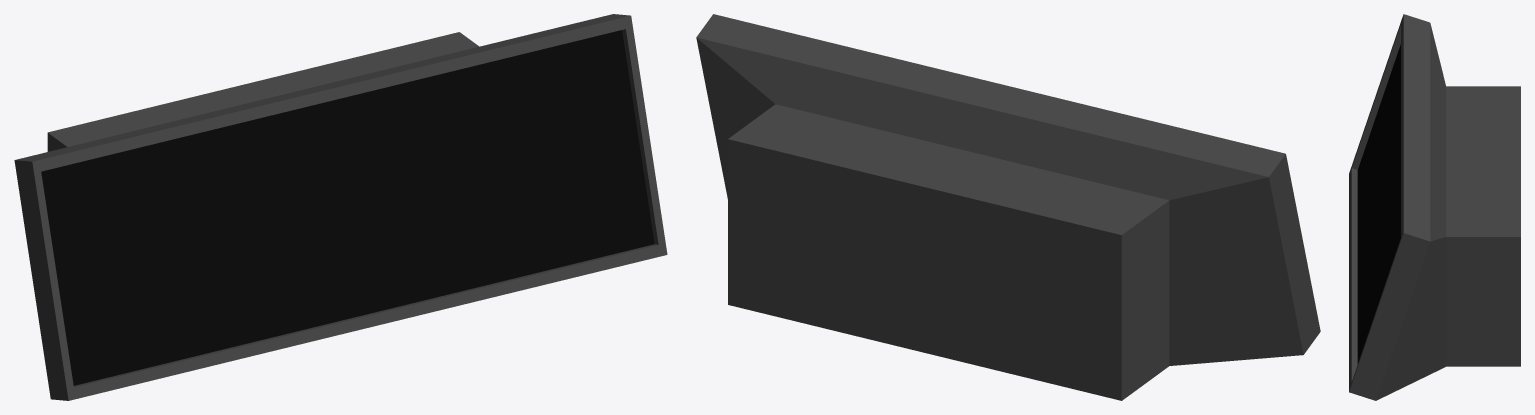
File: table_clock.glb
3 views of the same model, side by side, from view 1: azimuth 30°, elevation 25°; view 2: azimuth 150°, elevation 25°; view 3: azimuth 270°, elevation 25° (orthographic). The views are drawn at different scales.
Parts seen in each view (by area): view 1: Cube; view 2: Cube; view 3: Cube.
Part boxes in pixels (bbox=[...]): Cube: bbox=[14, 14, 667, 400]; Cube: bbox=[696, 14, 1320, 400]; Cube: bbox=[1349, 14, 1520, 400].
Size of the model in its own units: 4.04 by 1.44 by 1.34.
Materials: 1 (1 with a texture image).
